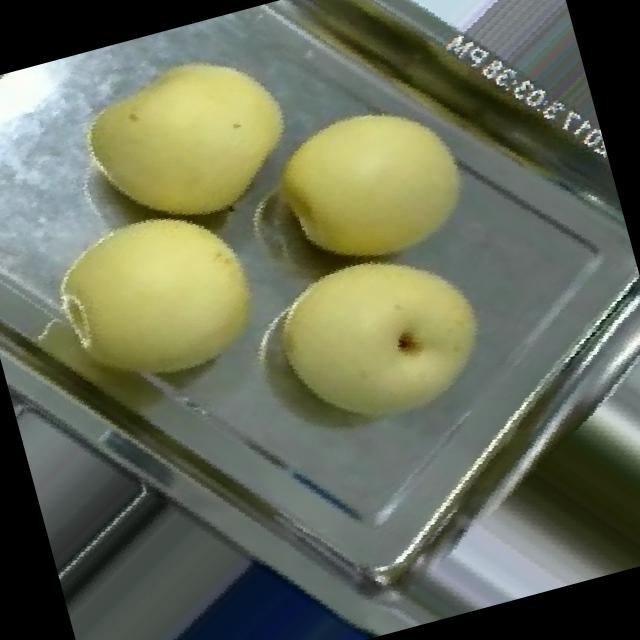Fruit: (2, 161, 309, 449), (228, 204, 537, 488), (44, 13, 326, 268), (245, 63, 500, 298)
